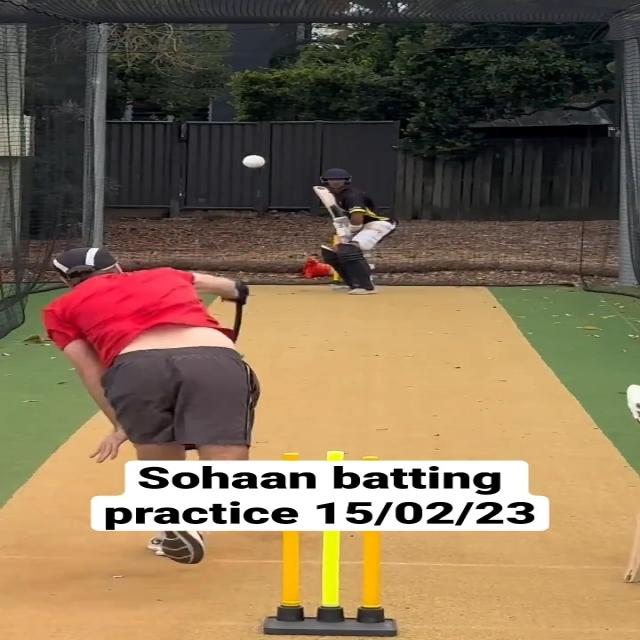ball: (241, 154, 266, 170)
stump: (266, 531, 398, 636)
